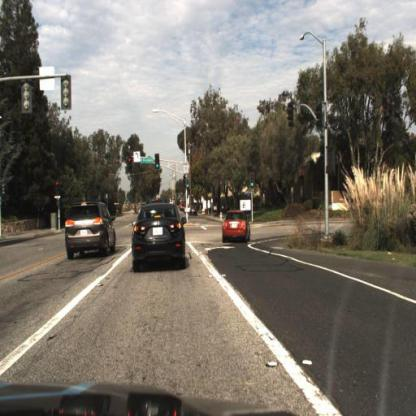car: (134, 203, 183, 273), (65, 202, 120, 257), (224, 209, 254, 245), (189, 203, 201, 222)
trafficLight-Green: (249, 172, 259, 192), (154, 151, 162, 175)
trafficLight-RedLeft: (127, 154, 134, 172)
